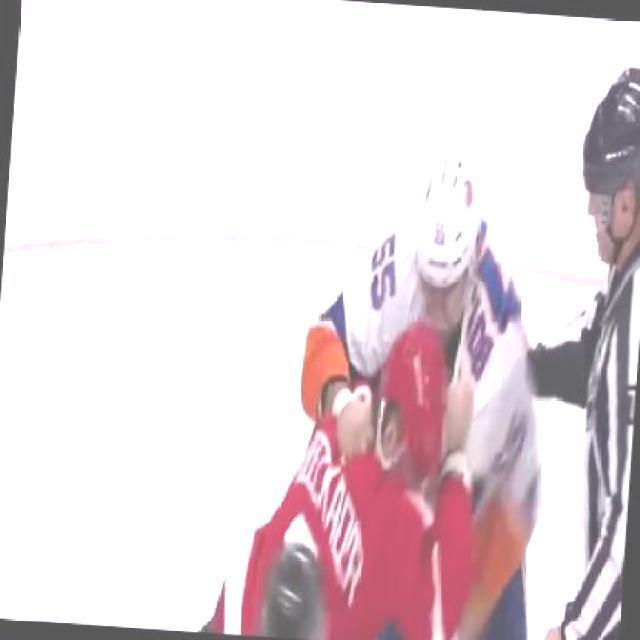fight: (266, 132, 568, 638)
